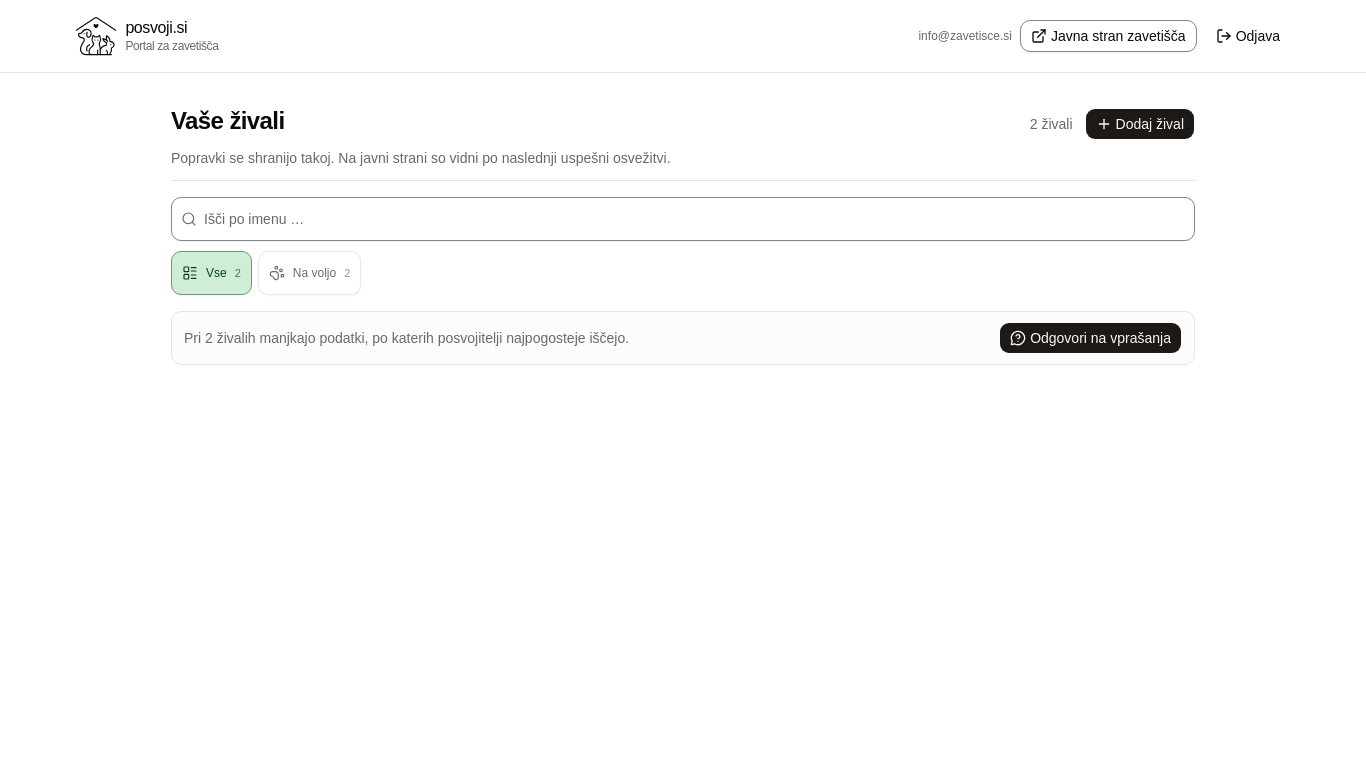
Test: a shelter that writes its own listings › filters the listing cards by name
The width and height of the screenshot is (1366, 768).
Type "lun" into the search field labelled "Išči po imenu" at coordinates (683, 219), box [171, 197, 1195, 241]
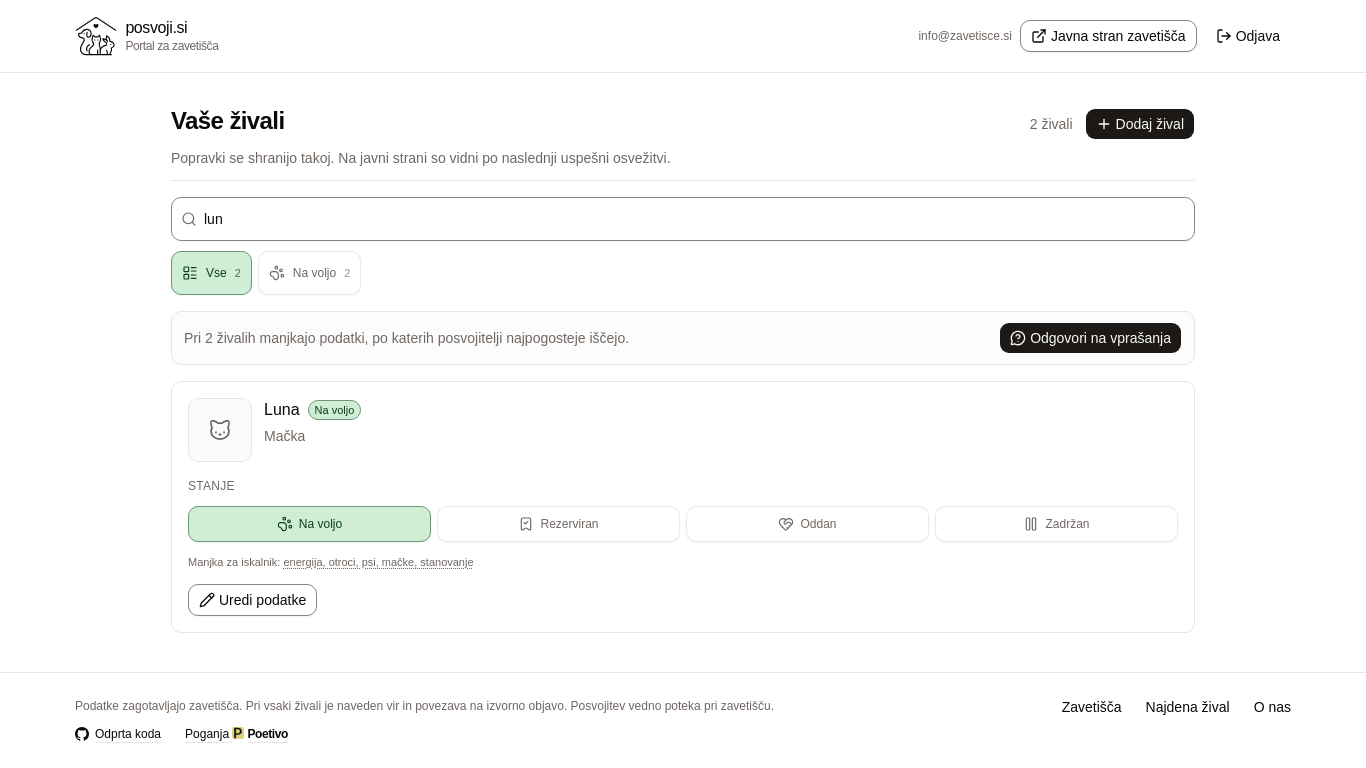
Expected: the heading "Luna" is shown, [264, 398, 300, 422]
